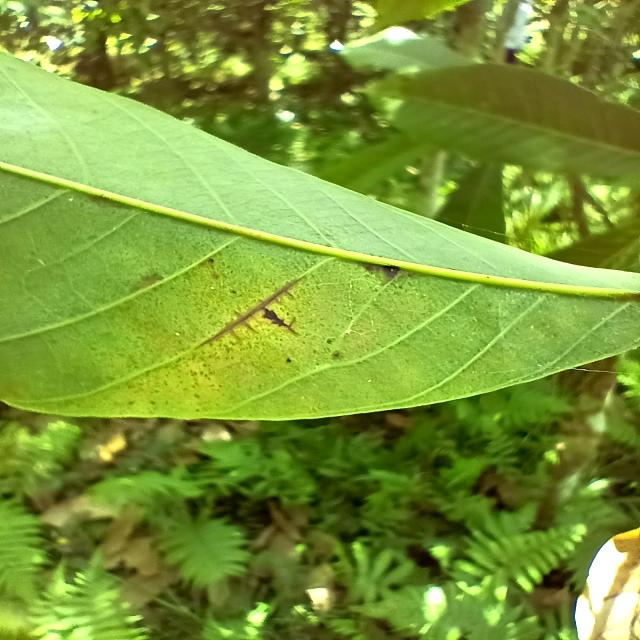Colletotrichum: (286, 358, 292, 362)
Corynespora: (194, 274, 307, 349)
